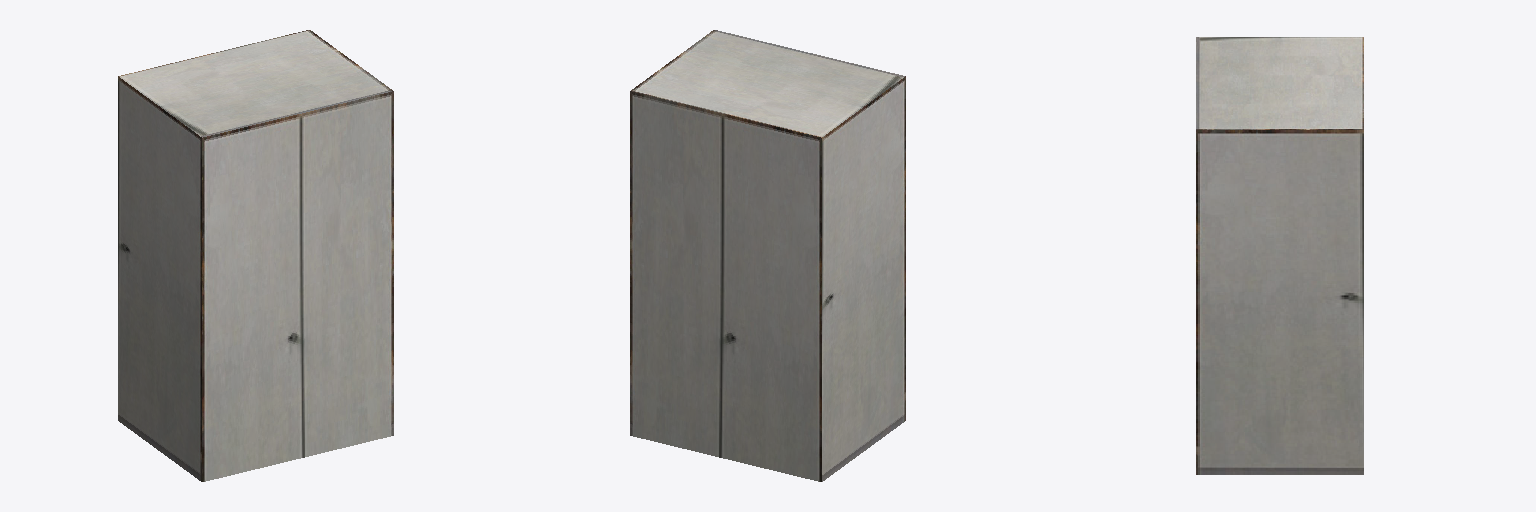
3 renders of one model, left to right at view 1: azimuth 30°, elevation 25°; view 2: azimuth 150°, elevation 25°; view 3: azimuth 270°, elevation 25°, orthographic.
Visible parts, largest first — view 1: electricBox_4_v1; view 2: electricBox_4_v1; view 3: electricBox_4_v1.
Boxes of the visible parts, box(x1,y1,x2,y2) form: electricBox_4_v1: box(118, 30, 393, 481); electricBox_4_v1: box(630, 30, 905, 481); electricBox_4_v1: box(1196, 37, 1363, 474).
Bounding box in the file's own units: 0.6463 × 1.11 × 0.4907.
Materials: 1 (1 with a texture image).